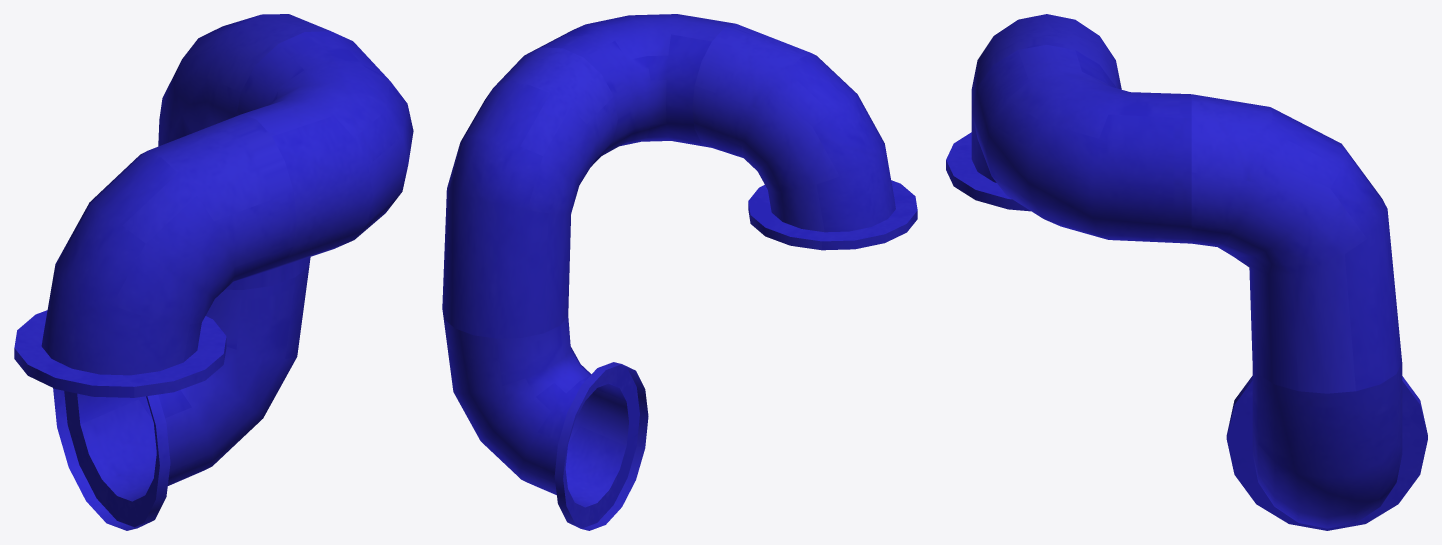
File: motorpipeSpecial.fbx
3 views of the same model, side by side, from view 1: azimuth 30°, elevation 25°; view 2: azimuth 150°, elevation 25°; view 3: azimuth 270°, elevation 25° (orthographic). The views are drawn at different scales.
Parts seen in each view (by area): view 1: MotorpipeSpecial; view 2: MotorpipeSpecial; view 3: MotorpipeSpecial.
Boxes of the visible parts, left/top/right/bottom form: MotorpipeSpecial: left=14, top=14, right=413, bottom=530; MotorpipeSpecial: left=442, top=14, right=917, bottom=530; MotorpipeSpecial: left=946, top=14, right=1427, bottom=530.
Size of the model in its own units: 0.9807 by 1.14 by 1.03.
